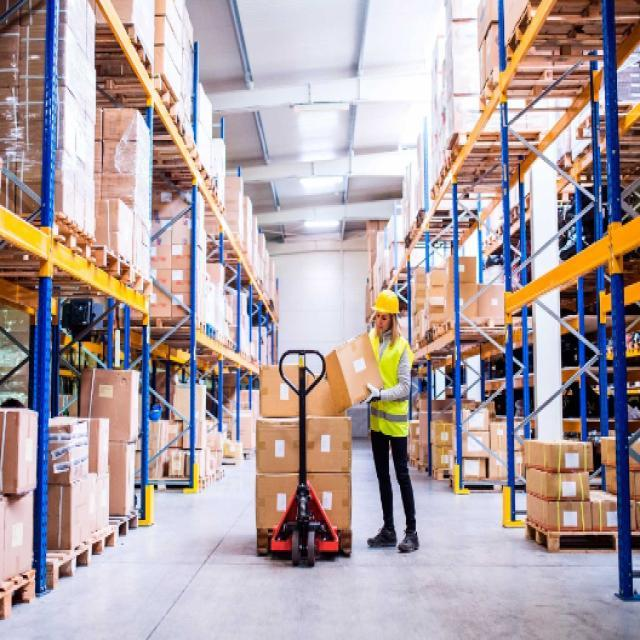boots: (363, 519, 423, 555)
helmet: (372, 288, 402, 338)
vest: (359, 331, 417, 443)
